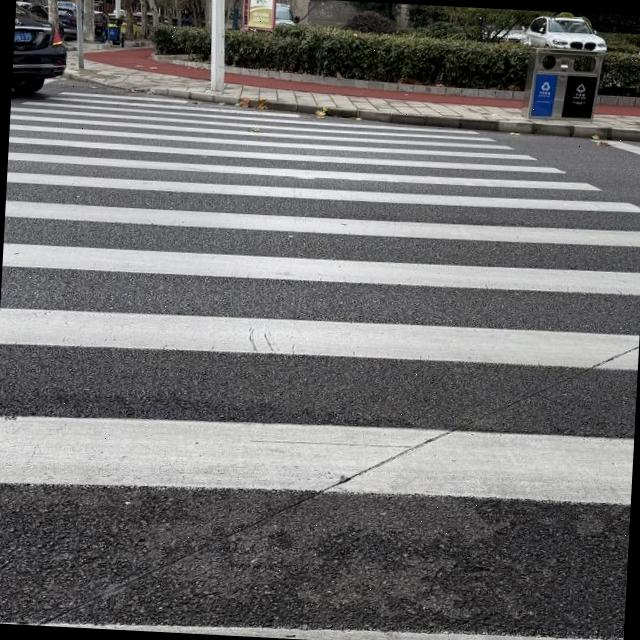curb: (153, 89, 640, 141), (226, 67, 523, 98), (150, 53, 211, 70), (60, 71, 111, 86), (598, 95, 640, 105)
